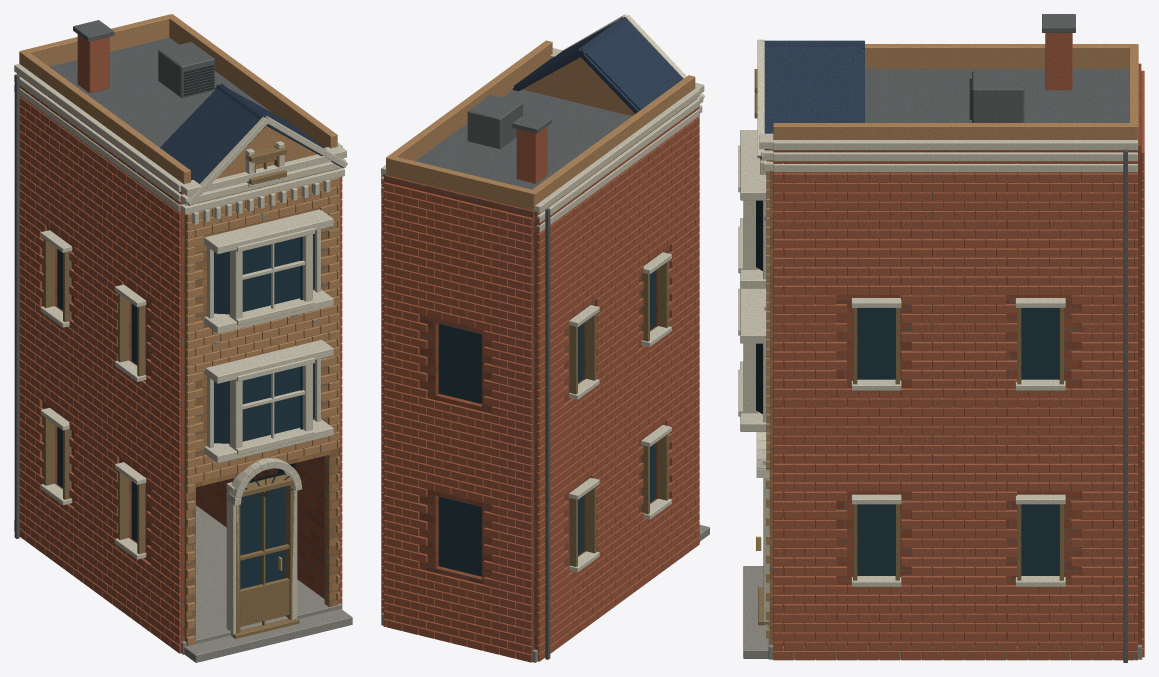
The model's file is VICT24_lod0.glb.
3 renders of one model, left to right at view 1: azimuth 30°, elevation 25°; view 2: azimuth 150°, elevation 25°; view 3: azimuth 270°, elevation 25°, orthographic. The views are drawn at different scales.
Visible parts, largest first — view 1: VICT24_LOD0; view 2: VICT24_LOD0; view 3: VICT24_LOD0.
Boxes of the visible parts, left/top/right/bottom form: VICT24_LOD0: left=14, top=14, right=352, bottom=662; VICT24_LOD0: left=381, top=14, right=709, bottom=662; VICT24_LOD0: left=738, top=14, right=1144, bottom=662.
Size of the model in its own units: 3.71 by 10.46 by 6.69.
17 materials, 14 textured.
